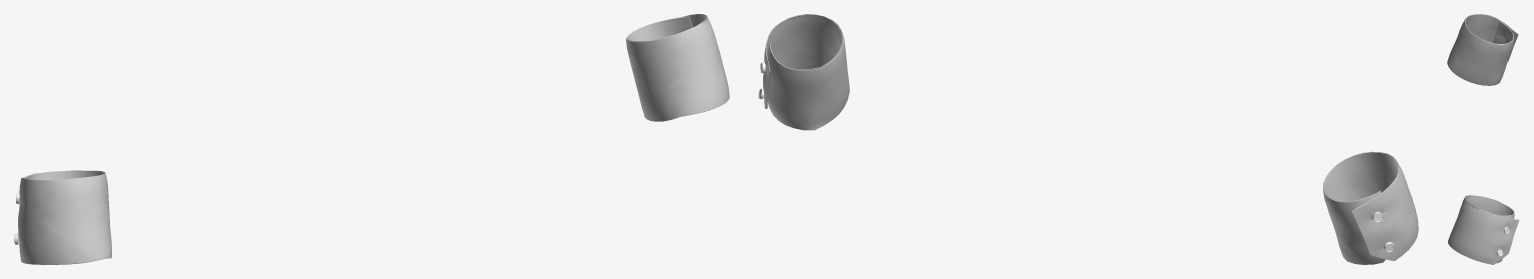
The model's file is two-buttons-cuff.glb.
The picture shows the model from 3 angles, left to right: view 1: azimuth 30°, elevation 25°; view 2: azimuth 150°, elevation 25°; view 3: azimuth 270°, elevation 25°; orthographic projection. The views are drawn at different scales.
Parts seen in each view (by area): view 1: Cuffs_3_Node, Cuffs_11_Node, Cuffs_10_Node, Cuffs_7_Node; view 2: Cuffs_3_Node, Cuffs_11_Node, Cuffs_10_Node, Cuffs_7_Node; view 3: Cuffs_11_Node, Cuffs_3_Node, Cuffs_7_Node, Cuffs_10_Node.
Part boxes in pixels (left/top/right/bottom): Cuffs_3_Node: left=18, top=171, right=111, bottom=264; Cuffs_11_Node: left=626, top=16, right=729, bottom=121; Cuffs_10_Node: left=626, top=14, right=707, bottom=41; Cuffs_7_Node: left=22, top=170, right=105, bottom=264; Cuffs_3_Node: left=1323, top=151, right=1418, bottom=264; Cuffs_11_Node: left=763, top=15, right=849, bottom=130; Cuffs_10_Node: left=766, top=14, right=842, bottom=108; Cuffs_7_Node: left=1323, top=152, right=1398, bottom=252; Cuffs_11_Node: left=1448, top=195, right=1519, bottom=264; Cuffs_3_Node: left=1447, top=14, right=1518, bottom=85; Cuffs_7_Node: left=1465, top=14, right=1518, bottom=61; Cuffs_10_Node: left=1465, top=195, right=1515, bottom=219.
Size of the model in its own units: 0.7071 by 0.0984 by 0.1059.
Materials: 6 (4 with a texture image).
